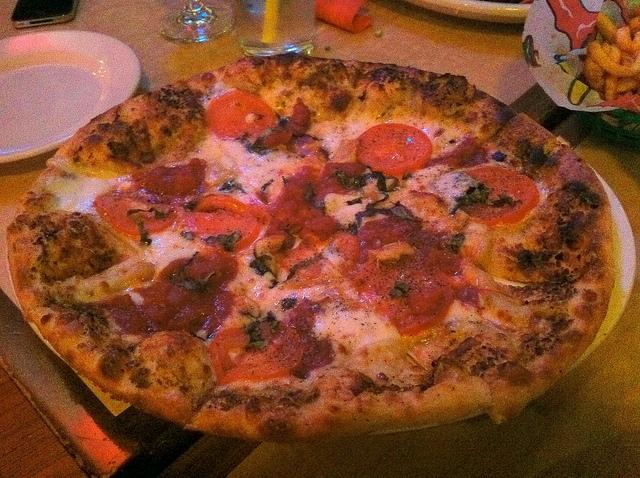tomato: (354, 254, 454, 336), (209, 322, 304, 386), (182, 194, 268, 255), (464, 166, 539, 226), (356, 123, 432, 178), (94, 189, 177, 239), (205, 90, 277, 138), (322, 232, 360, 276)
